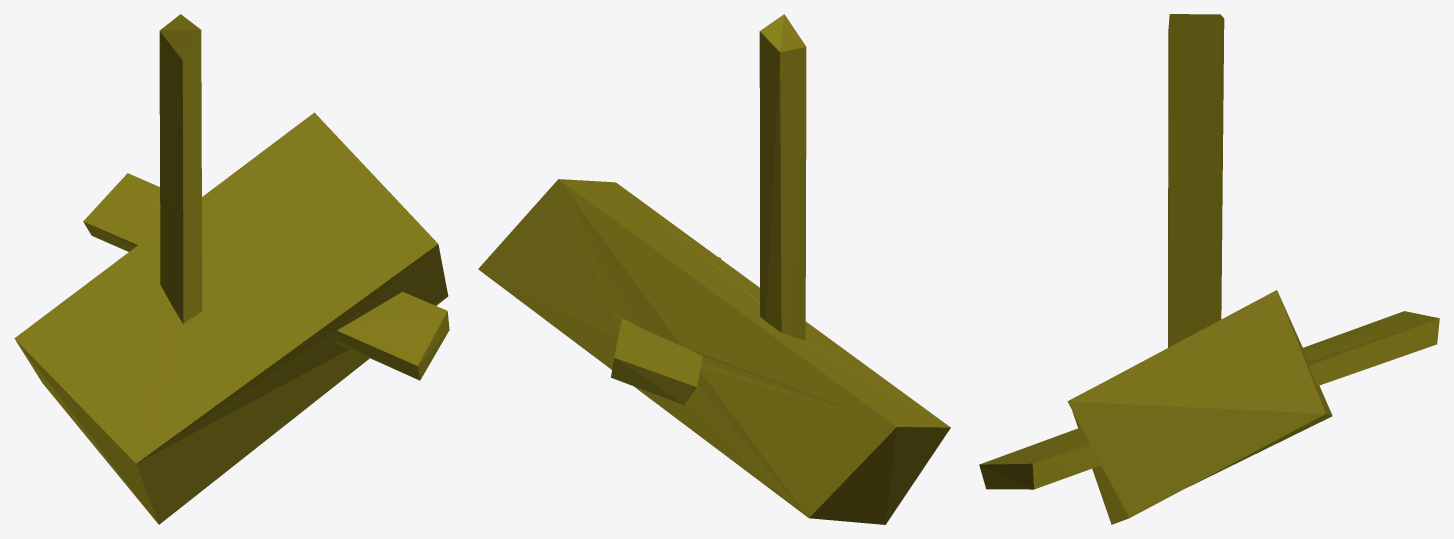
3 renders of one model, left to right at view 1: azimuth 30°, elevation 25°; view 2: azimuth 150°, elevation 25°; view 3: azimuth 270°, elevation 25°, orthographic. The views are drawn at different scales.
Parts seen in each view (by area): view 1: 681_Cube.2735; view 2: 681_Cube.2735; view 3: 681_Cube.2735.
Boxes of the visible parts, left/top/right/bottom form: 681_Cube.2735: left=14, top=14, right=449, bottom=524; 681_Cube.2735: left=478, top=14, right=950, bottom=524; 681_Cube.2735: left=979, top=14, right=1439, bottom=524.
Bounding box in the file's own units: 13.16 × 15.49 × 11.76.
